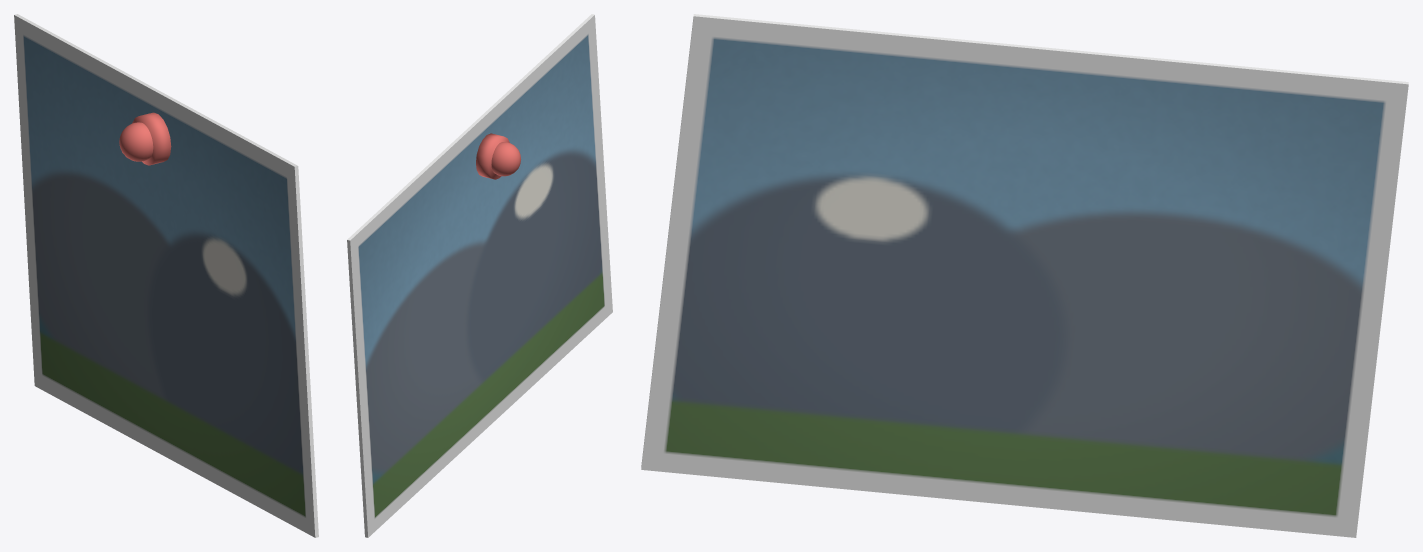
File: escena.casa.postal_amigo_lejos.fbx
3 renders of one model, left to right at view 1: azimuth 30°, elevation 25°; view 2: azimuth 150°, elevation 25°; view 3: azimuth 270°, elevation 25°, orthographic. The views are drawn at different scales.
Visible parts, largest first — view 1: Postal, Cabeza de la chinche, Chinche; view 2: Postal, Cabeza de la chinche, Chinche; view 3: Postal.
Boxes of the visible parts, box(x1,y1,x2,y2) form: Postal: box(14, 14, 318, 537); Cabeza de la chinche: box(119, 122, 153, 161); Chinche: box(132, 112, 171, 165); Postal: box(347, 14, 612, 537); Cabeza de la chinche: box(491, 142, 520, 176); Chinche: box(476, 133, 509, 179); Postal: box(641, 14, 1408, 537).
Size of the model in its own units: 0.019 by 0.1601 by 0.2135.
Materials: 2 (1 with a texture image).
